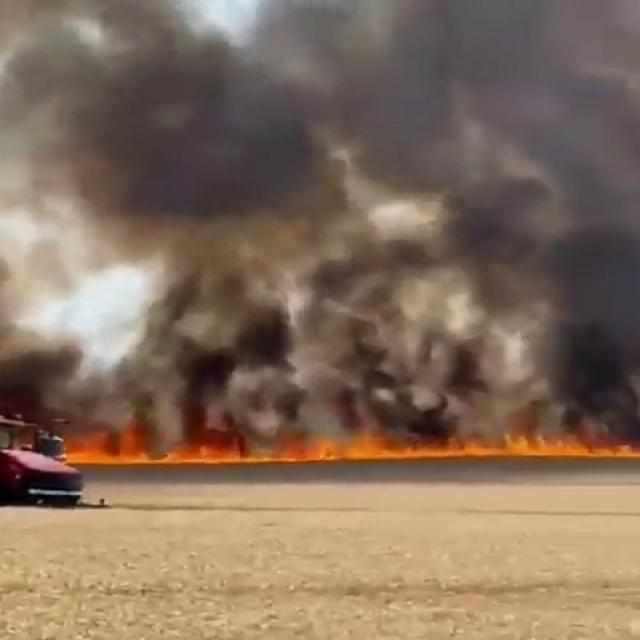Fire: (70, 431, 640, 466)
